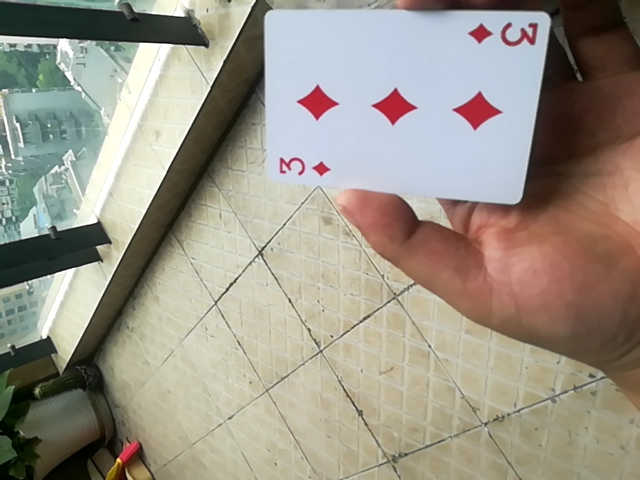fk 3: (259, 5, 555, 208)
